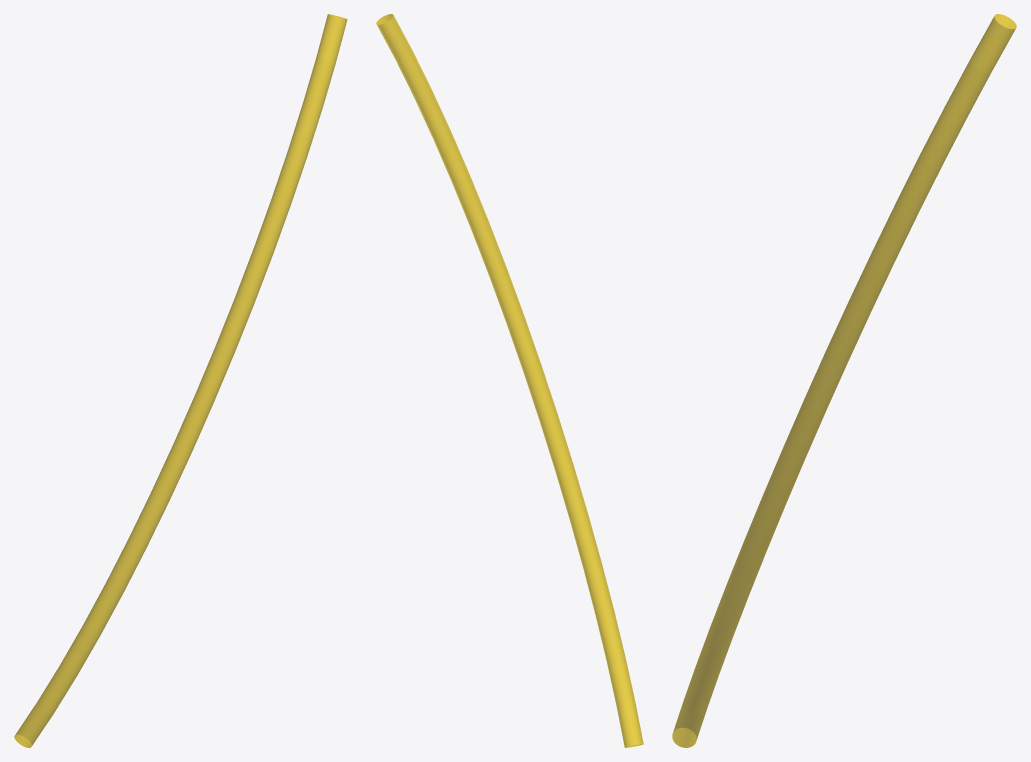
Rendered from Event_17758602_track_1.fbx.
The picture shows the model from 3 angles, left to right: view 1: azimuth 30°, elevation 25°; view 2: azimuth 150°, elevation 25°; view 3: azimuth 330°, elevation 25°; orthographic projection. The views are drawn at different scales.
Visible parts, largest first — view 1: Model; view 2: Model; view 3: Model.
Part boxes in pixels (<box>): Model: <box>14,14,347,747</box>; Model: <box>376,14,643,747</box>; Model: <box>672,14,1016,747</box>.
Bounding box in the file's own units: 0.6888 × 1.48 × 0.1925.
